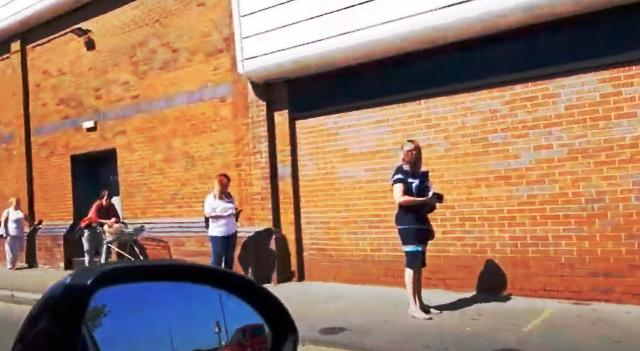berdiri: (384, 135, 452, 328)
